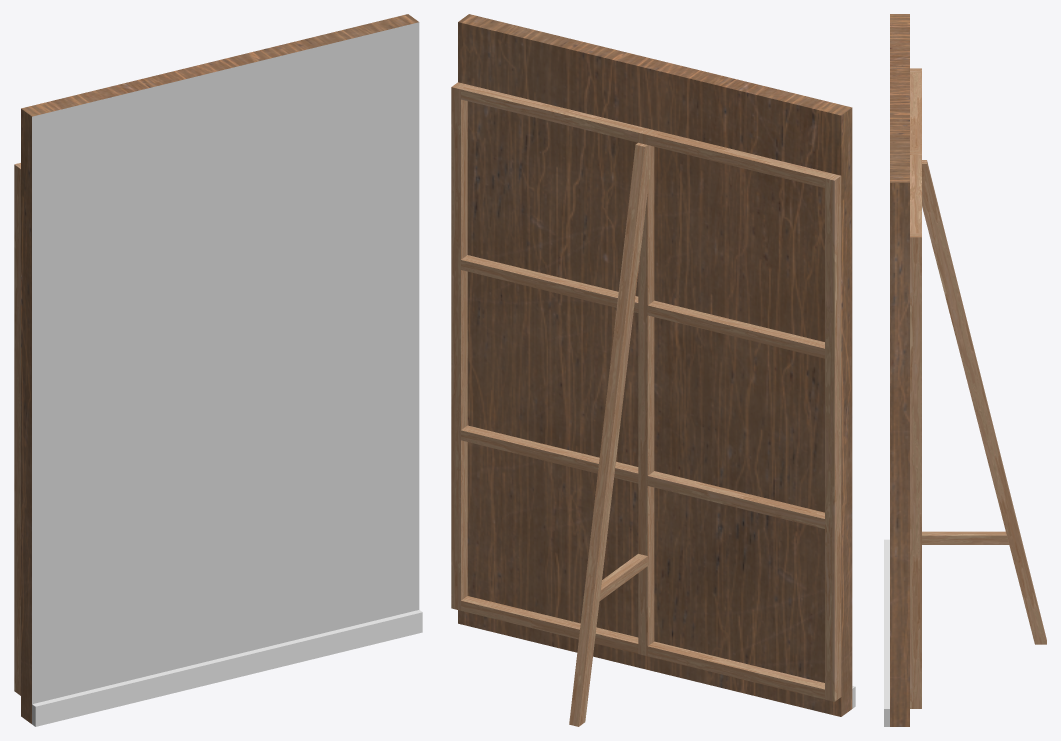
Rendered from MovieSet_Wall_Small.fbx.
The picture shows the model from 3 angles, left to right: view 1: azimuth 30°, elevation 25°; view 2: azimuth 150°, elevation 25°; view 3: azimuth 270°, elevation 25°; orthographic projection. The views are drawn at different scales.
Visible parts, largest first — view 1: MovieSet_Wall_Small; view 2: MovieSet_Wall_Small; view 3: MovieSet_Wall_Small.
Part boxes in pixels (x1,y1,x2,y2): MovieSet_Wall_Small: [14, 14, 422, 726]; MovieSet_Wall_Small: [451, 14, 855, 726]; MovieSet_Wall_Small: [884, 14, 1046, 726].
Bounding box in the file's own units: 2 × 3 × 0.8145.
2 materials, 1 textured.
